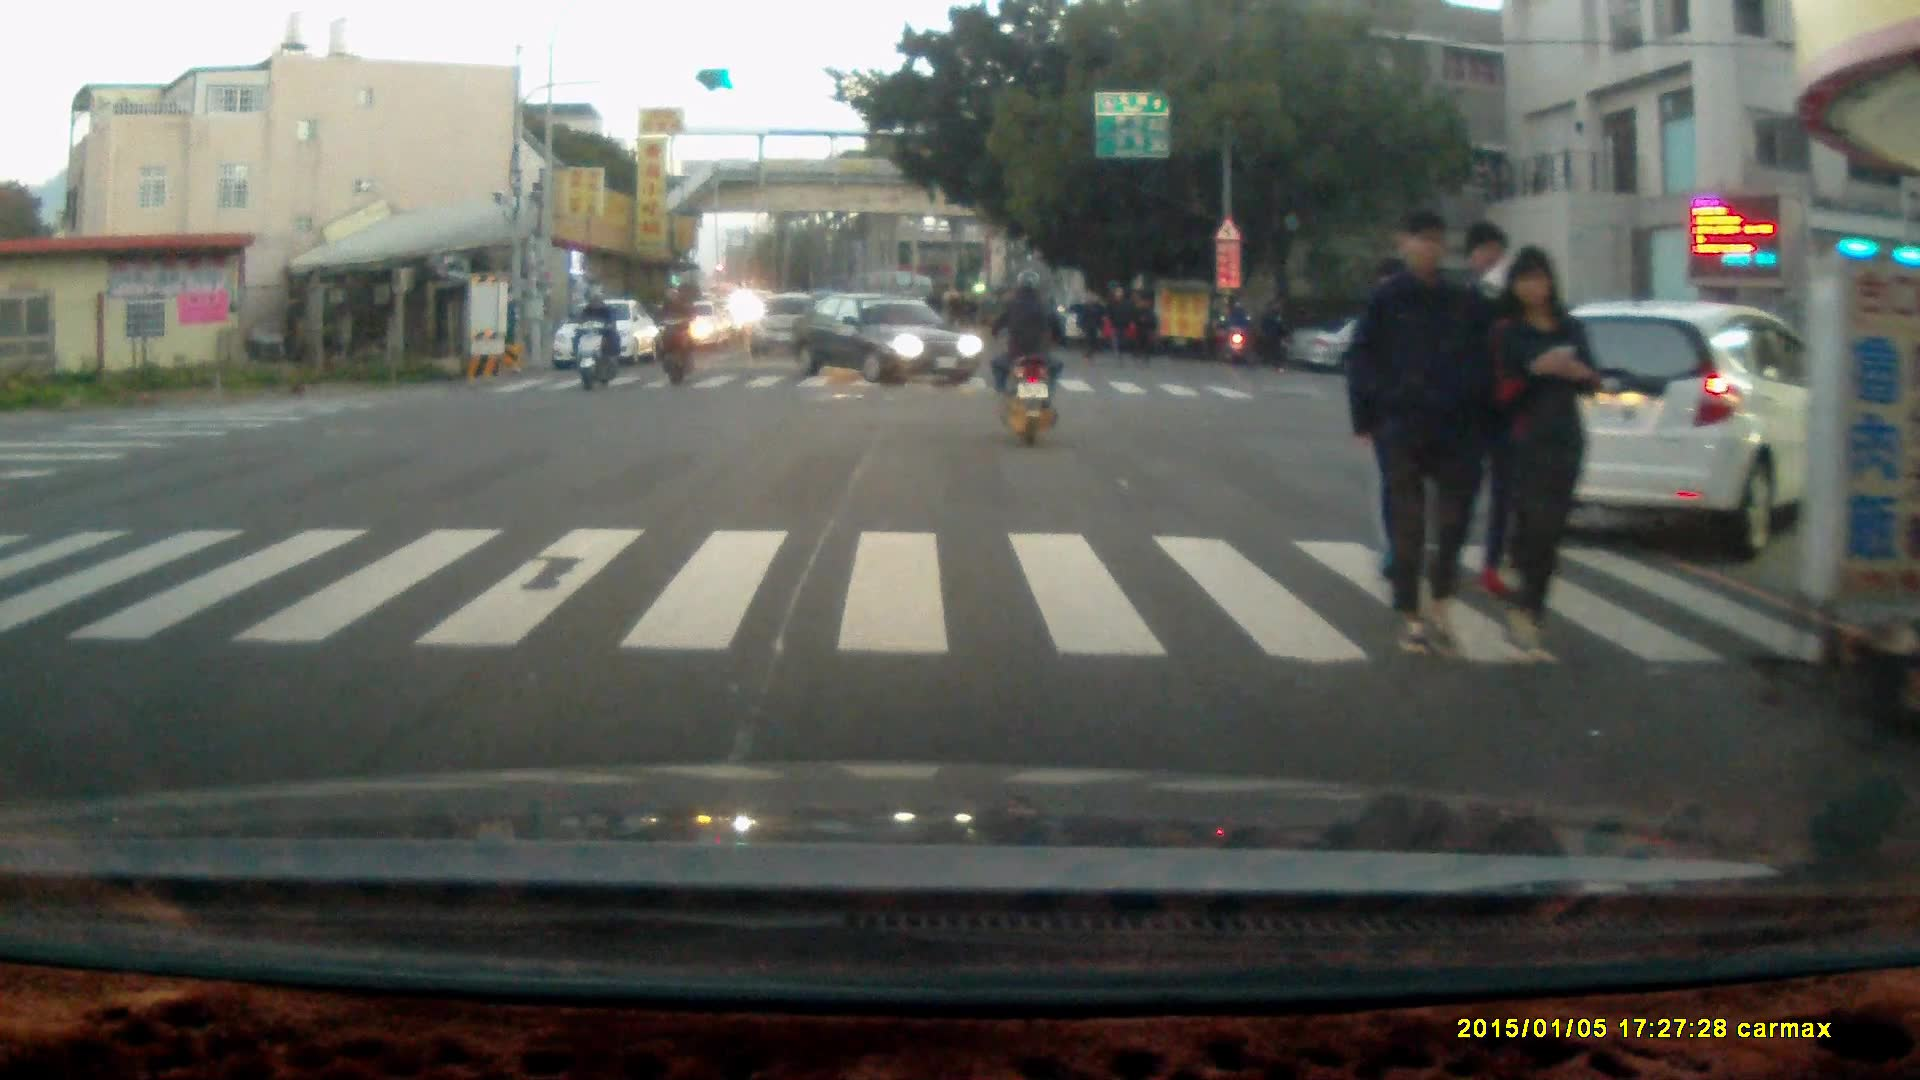pedestrian: (1345, 207, 1494, 672), (1483, 243, 1595, 668), (1102, 280, 1131, 366), (1126, 290, 1158, 366), (1253, 291, 1284, 368), (1070, 285, 1099, 364)
rider: (991, 264, 1063, 448), (572, 284, 620, 392), (648, 282, 696, 384), (1212, 297, 1251, 360)
vehicle: (1504, 294, 1889, 567), (785, 287, 987, 384), (553, 299, 656, 370)
